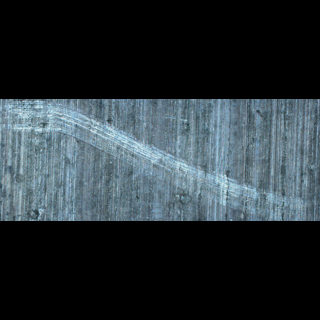d: (0, 99, 94, 134), (221, 179, 304, 214), (150, 158, 233, 191), (84, 127, 151, 160)
